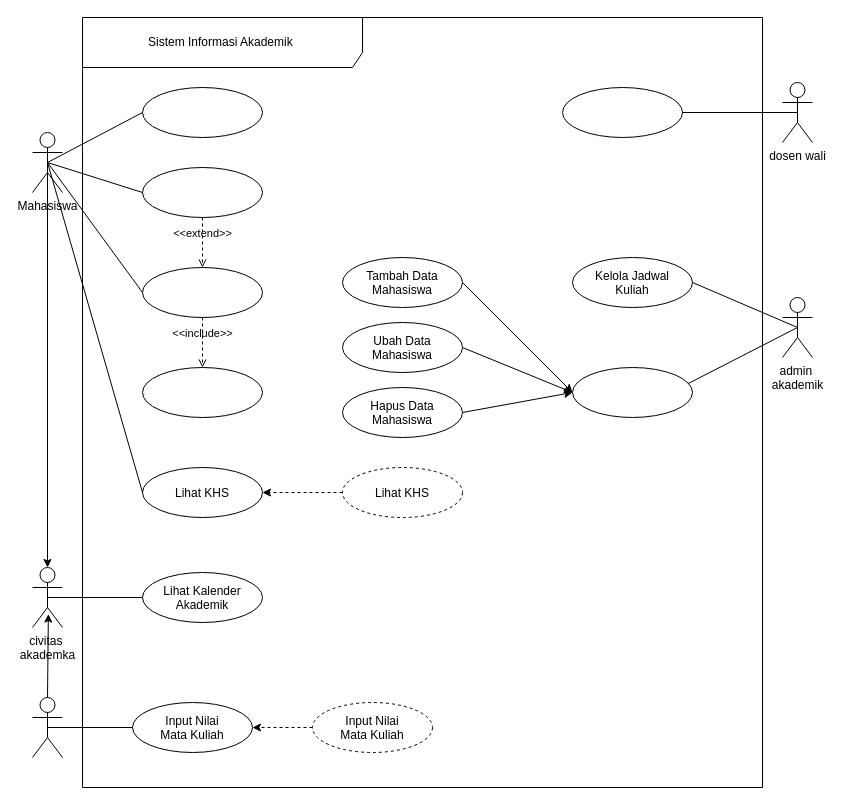
The diagram is 843 pixels wide and 805 high, and some of its shapes have lost their labels. Each missing label, with the centre of its shape:
"Ajukan KRS" belongs at [202,292].
"dosen" belongs at [47,727].
"Kelola Data Mahasiswa" belongs at [632,392].
"Lihat Jadwal Kuliah" belongs at [202,112].
"Proses Keputusan KRS" belongs at [622,112].
"Unduh Bukti Pengajuan KRS" belongs at [202,192].
"Validasi KRS" belongs at [202,392].
